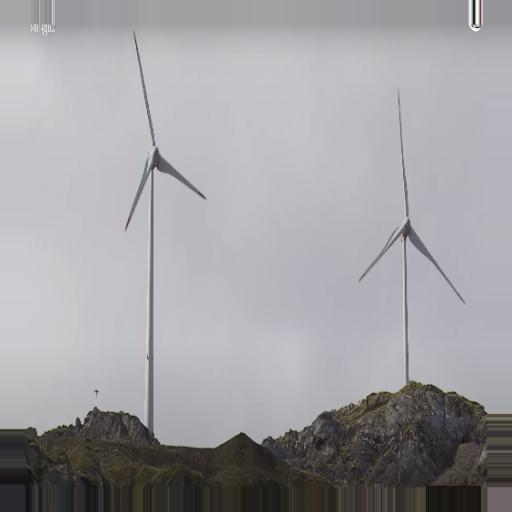wind turbine: (124, 28, 208, 442), (355, 87, 468, 387)
